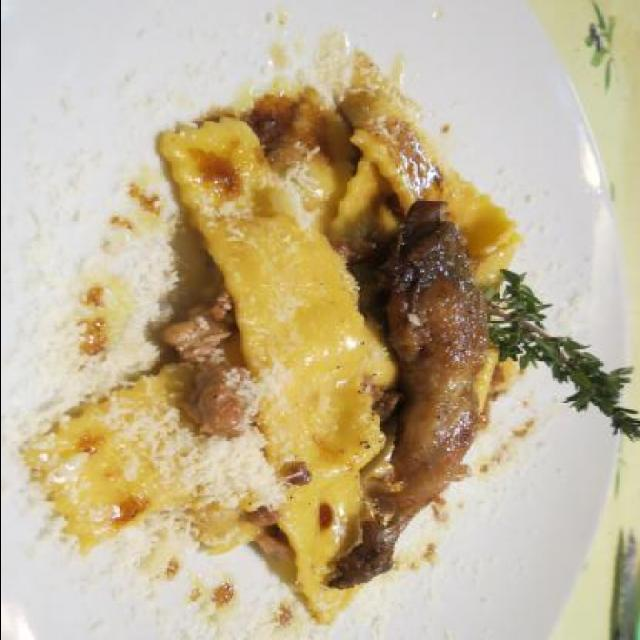Pasta al ragu: (64, 92, 572, 626)
